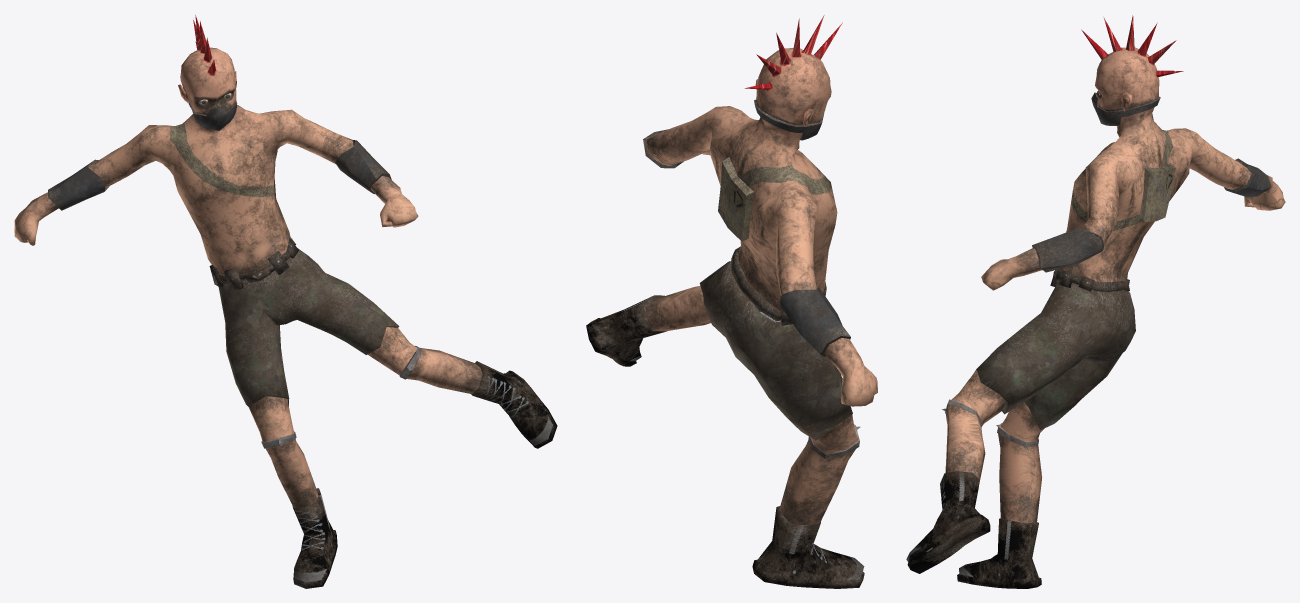
The model's file is Anim_ataque_f3_npc2.0028.obj.
3 views of the same model, side by side, from view 1: azimuth 30°, elevation 25°; view 2: azimuth 150°, elevation 25°; view 3: azimuth 270°, elevation 25° (orthographic). The views are drawn at different scales.
Visible parts, largest first — view 1: polySurface1; view 2: polySurface1; view 3: polySurface1.
Part boxes in pixels (left/top/right/bottom): polySurface1: left=14, top=15, right=557, bottom=588; polySurface1: left=586, top=15, right=877, bottom=588; polySurface1: left=906, top=15, right=1285, bottom=588.
Bounding box in the file's own units: 7.4 × 9.8 × 6.14.
